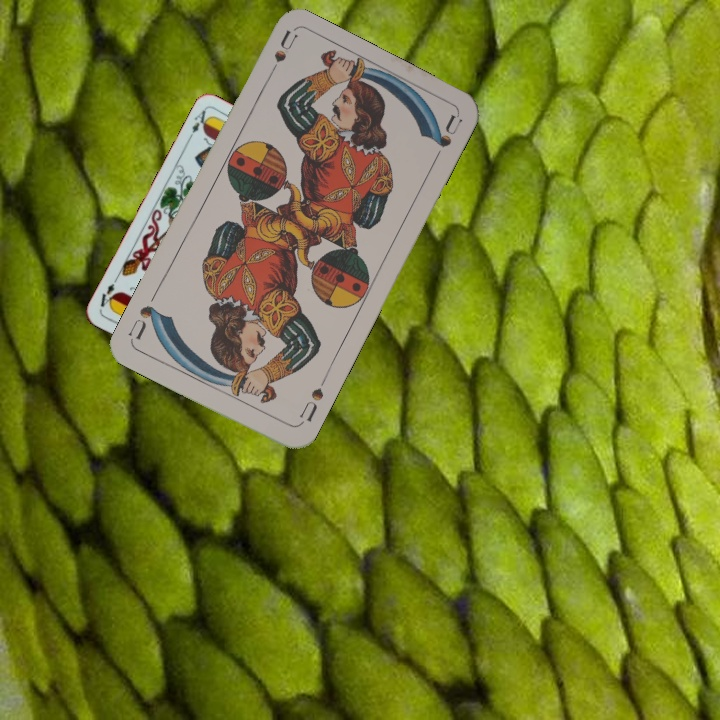EA: (183, 106, 213, 144)
SU: (262, 27, 299, 85), (295, 373, 330, 428)
